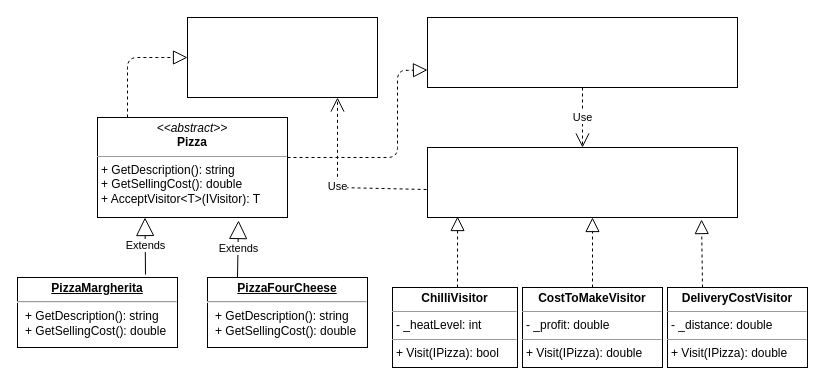
The diagram is 825 pixels wide and 385 high, and some of its shapes have lost their labels. Each missing label, with the box of its shape:
<<Interface>> IPizza + GetDescription(): string + GetSellingCost(): double: (186, 16, 378, 98)
<<Interface>> IVisitable + AcceptVisitor<T>(IVisitor): T: (426, 16, 738, 88)
<<Interface>> IVisitor<T> + Visit(IPizza): T: (426, 146, 738, 218)
